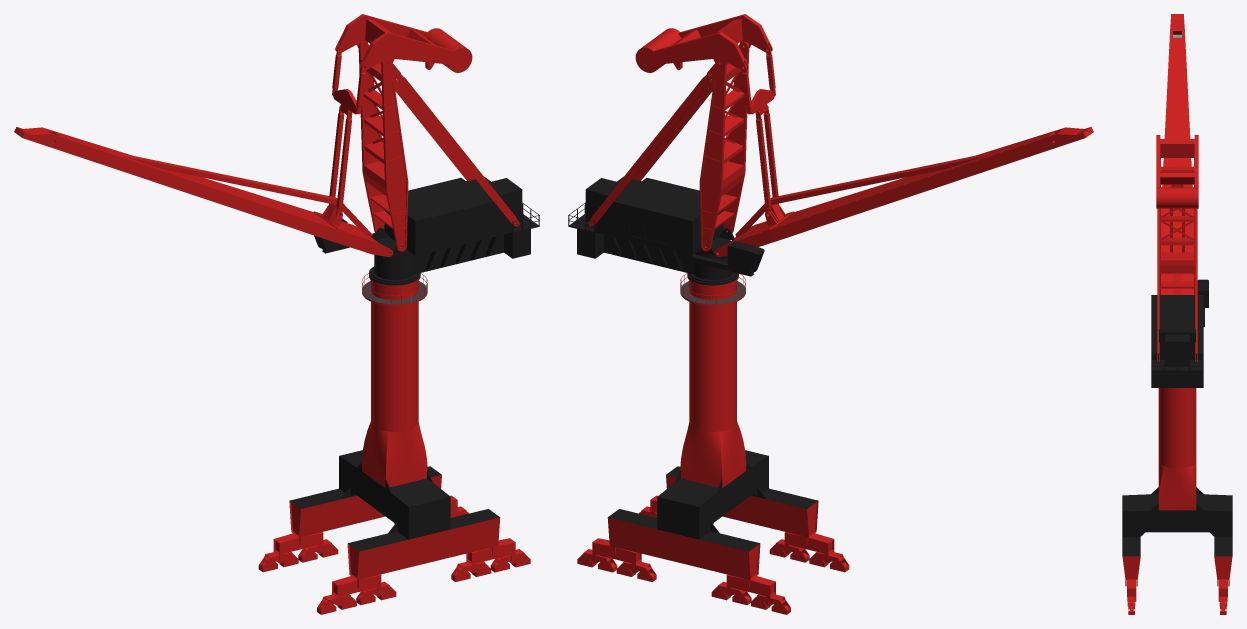
The model's file is PHB-Assembled.fbx.
3 views of the same model, side by side, from view 1: azimuth 30°, elevation 25°; view 2: azimuth 150°, elevation 25°; view 3: azimuth 270°, elevation 25° (orthographic). The views are drawn at different scales.
Parts seen in each view (by area): view 1: Model; view 2: Model; view 3: Model.
Boxes of the visible parts, left/top/right/bottom form: Model: left=14, top=14, right=539, bottom=614; Model: left=568, top=14, right=1093, bottom=614; Model: left=1122, top=14, right=1232, bottom=614.
Bounding box in the file's own units: 6016 × 6240 × 1440.
